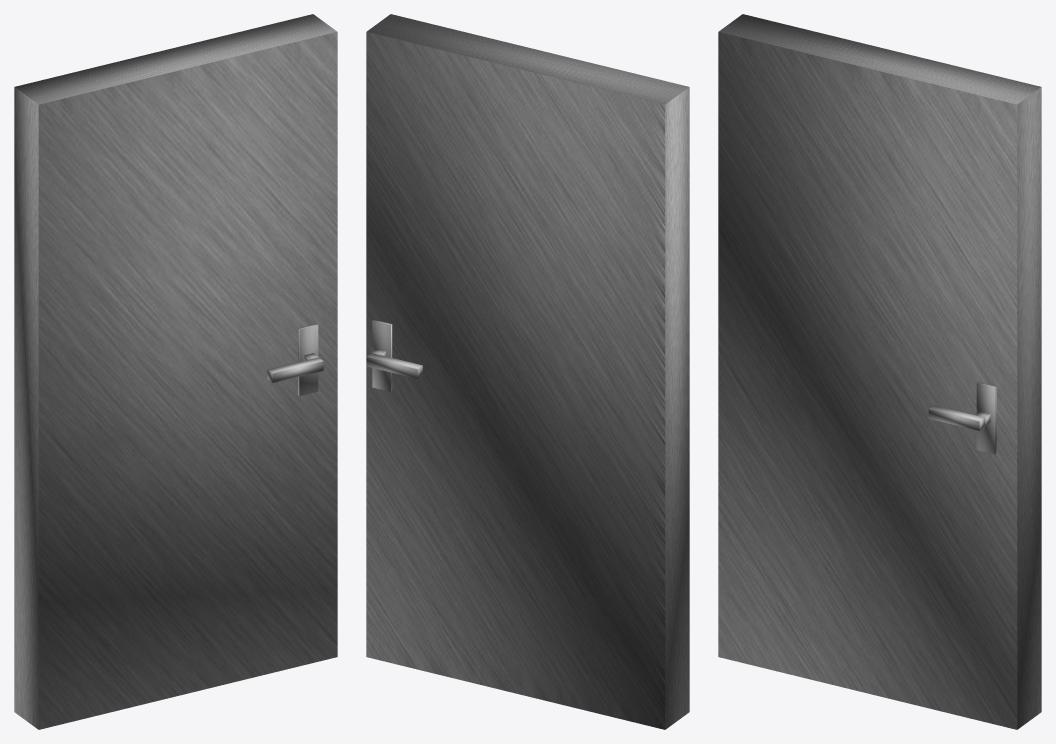
File: metaldoor.obj
The picture shows the model from 3 angles, left to right: view 1: azimuth 30°, elevation 25°; view 2: azimuth 150°, elevation 25°; view 3: azimuth 330°, elevation 25°; orthographic projection.
Parts seen in each view (by area): view 1: Cube, Cube.001, Cube.002; view 2: Cube, Cube.004_Cube.005, Cube.003_Cube.004; view 3: Cube, Cube.001, Cube.002.
Part boxes in pixels (x1,y1,x2,y2): Cube: (14, 14, 337, 729); Cube.001: (298, 324, 318, 396); Cube.002: (267, 353, 323, 382); Cube: (366, 14, 689, 729); Cube.004_Cube.005: (372, 319, 392, 391); Cube.003_Cube.004: (366, 349, 422, 378); Cube: (718, 14, 1041, 729); Cube.001: (976, 382, 996, 454); Cube.002: (928, 405, 990, 430).
Size of the model in its own units: 1.5 by 3 by 0.4232.
